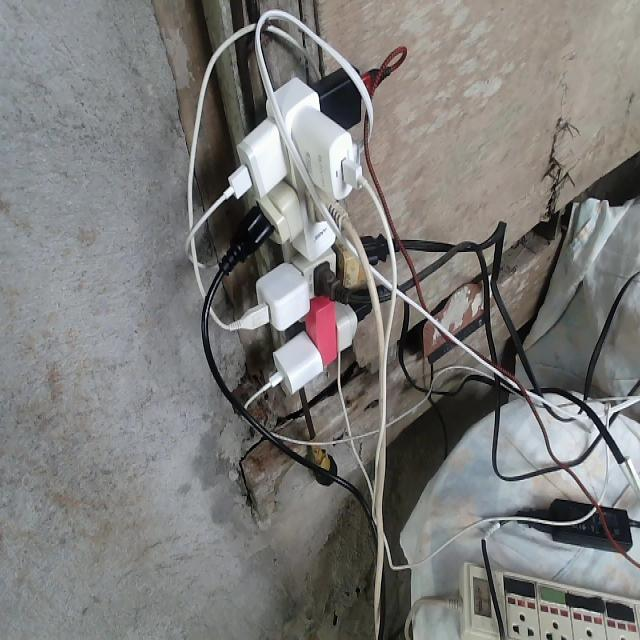-: (205, 41, 413, 398)
